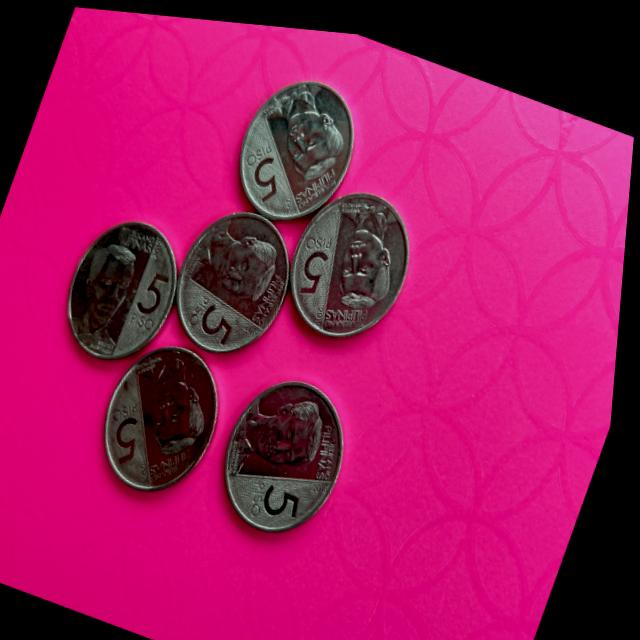5_New_Front: (243, 456, 323, 530), (98, 386, 168, 468), (123, 247, 183, 339), (183, 280, 255, 350), (286, 216, 345, 299), (232, 131, 292, 211)
